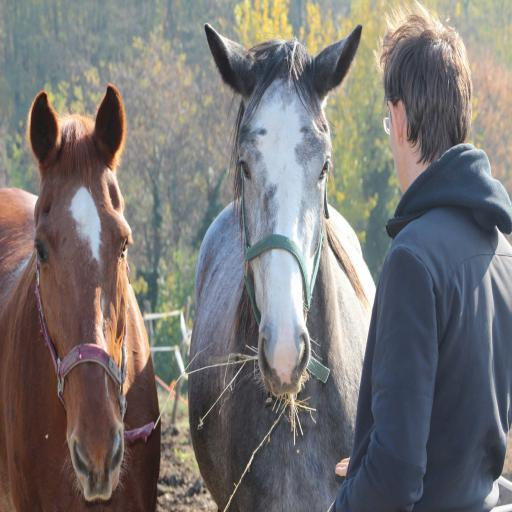Horse: (186, 25, 378, 511), (0, 85, 162, 511)
